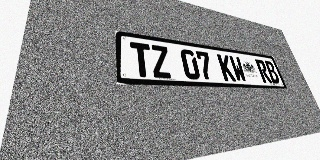0: (180, 49, 201, 80)
7: (194, 51, 215, 80)
B: (264, 60, 281, 84)
K: (217, 54, 236, 81)
R: (255, 59, 272, 83)
T: (130, 42, 153, 78)
W: (228, 55, 248, 82)
Z: (150, 44, 172, 78)
